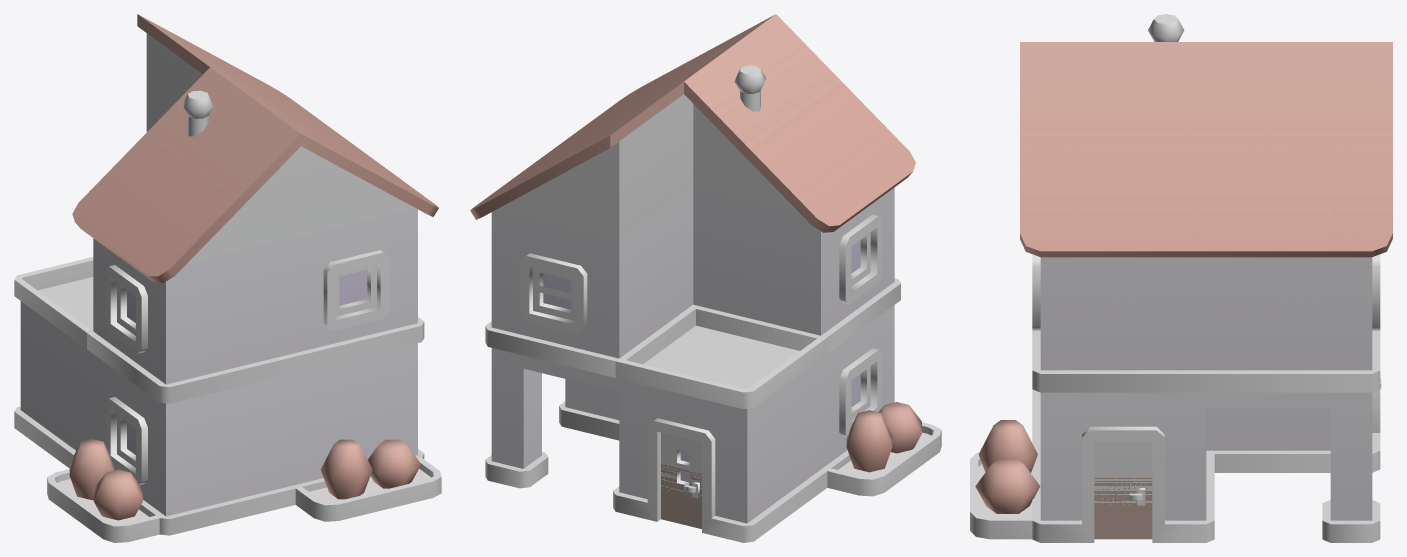
File: suburban-building-type-r.glb
3 renders of one model, left to right at view 1: azimuth 30°, elevation 25°; view 2: azimuth 150°, elevation 25°; view 3: azimuth 270°, elevation 25°, orthographic. The views are drawn at different scales.
Parts seen in each view (by area): view 1: building-type-r; view 2: building-type-r; view 3: building-type-r.
Boxes of the visible parts, <box> form: building-type-r: <box>14,14,441,542</box>; building-type-r: <box>470,14,941,542</box>; building-type-r: <box>970,14,1392,542</box>.
Size of the model in its own units: 1.03 by 1.14 by 1.02.
1 material, 1 textured.
